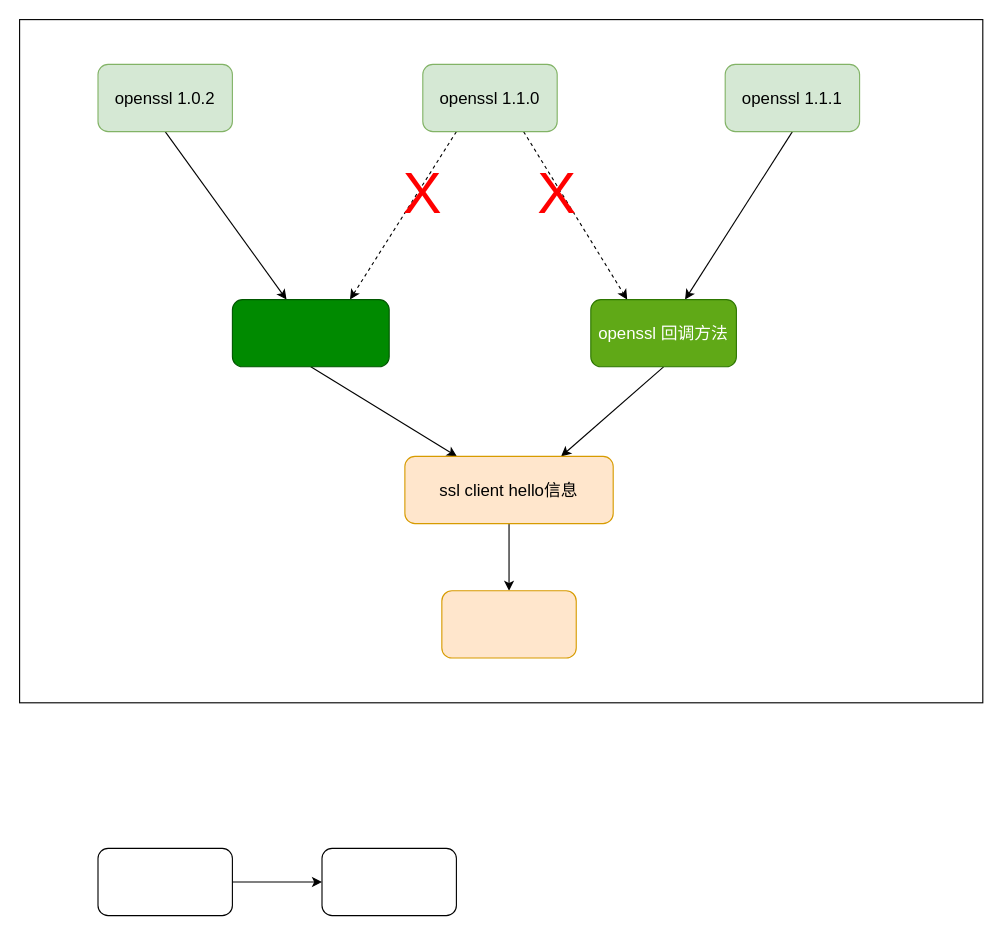
Some shapes in this 1002 by 935 pixel diagram are drawn without their labels. Here are the shapes that lost their labels. From the top down, the centre of each, then its label:
the point at 310,332: openssl头文件暴露
the point at 508,624: ja3指纹信息
the point at 164,881: 编译
